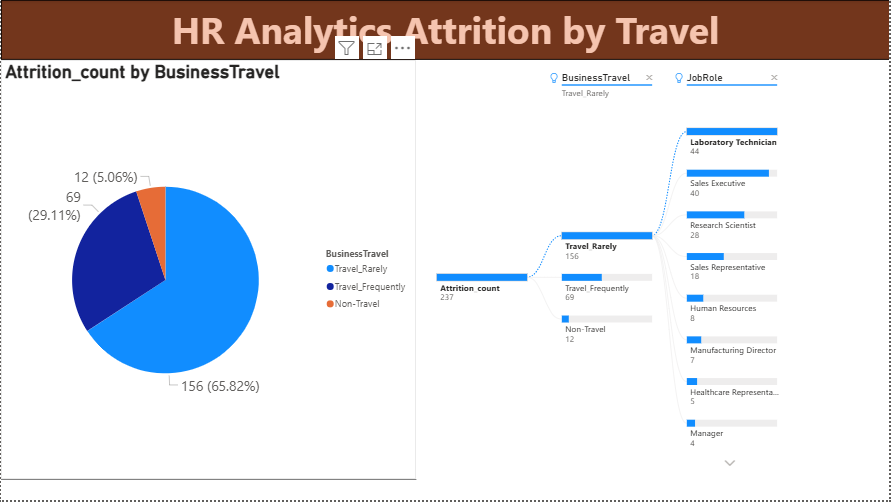

The dashboard page shown, as its layout file describes it:
{"tool":"powerbi","page":{"name":"Attrition_Travel Dashboard","canvas":[1280,720],"ordinal":1},"visuals":[{"type":"textbox","box":[0,0,1280,86.2],"z":0},{"type":"pieChart","fields":{"Category":["HR_Analytics.BusinessTravel"],"Y":["HR_Analytics.Attrition_count"]},"box":[0,86.2,597.5,603.8],"z":1000},{"type":"decompositionTreeVisual","fields":{"Analyze":["HR_Analytics.Attrition_count"],"ExplainBy":["HR_Analytics.BusinessTravel","HR_Analytics.JobRole"]},"box":[598,86,682,604],"z":2000}]}

Visuals, with their boxes in screenshot pixels (x1, y1, x2, y2), scaled from the page's 1280x720 canvas onto the 891x502 screenshot:
textbox: detection(0, 0, 890, 60)
pieChart - HR_Analytics.BusinessTravel x HR_Analytics.Attrition_count: detection(0, 60, 416, 481)
decompositionTreeVisual - HR_Analytics.Attrition_count x HR_Analytics.BusinessTravel: detection(416, 60, 890, 481)
